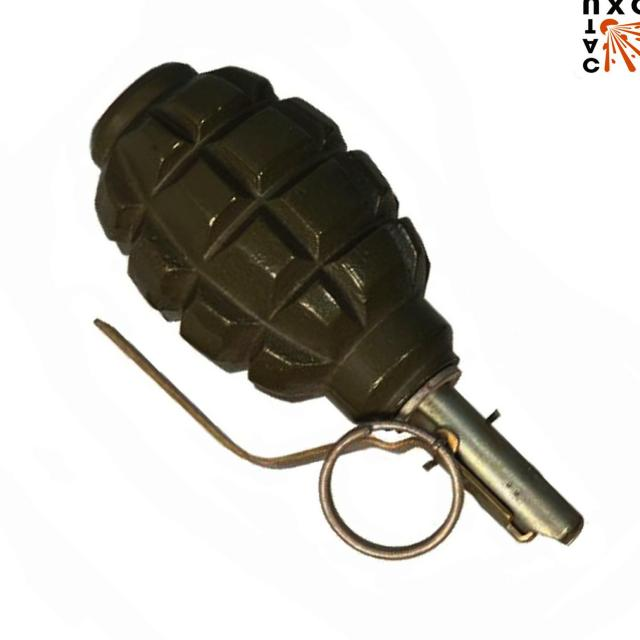grenade: (91, 64, 586, 562)
